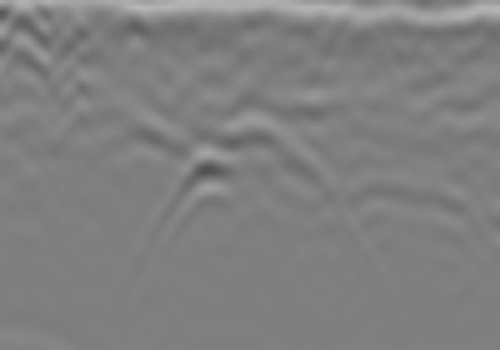hyperbola: (107, 98, 373, 295)
